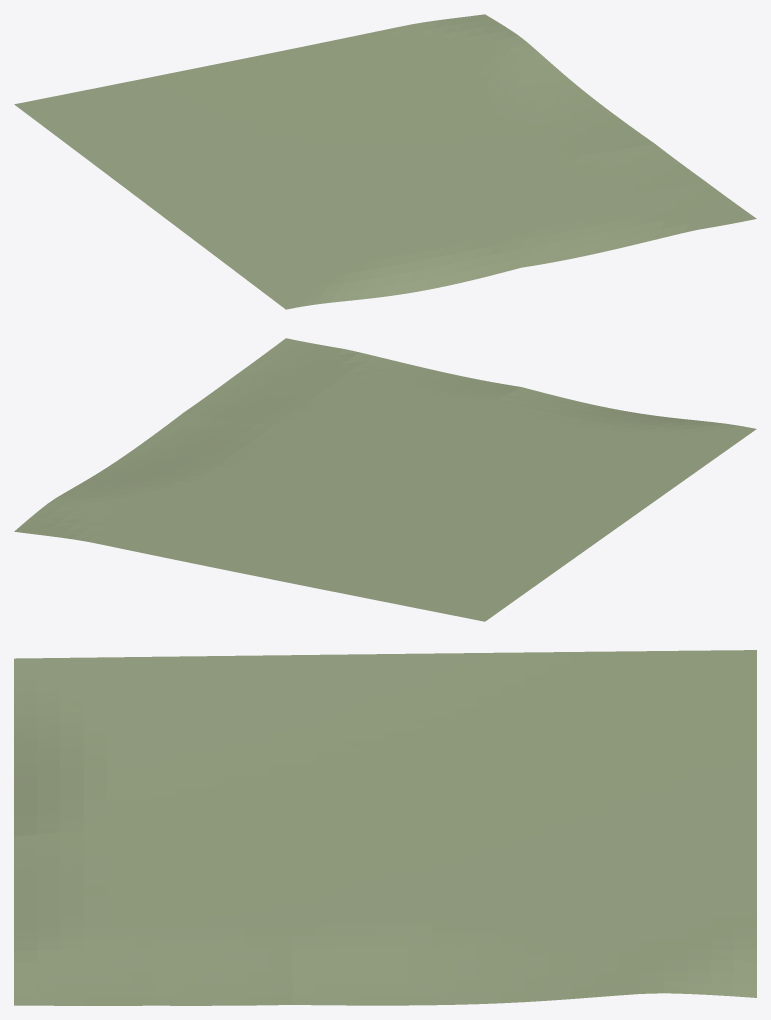
The model's file is gardens-0-5.glb.
3 views of the same model, one above another, from view 1: azimuth 30°, elevation 25°; view 2: azimuth 150°, elevation 25°; view 3: azimuth 270°, elevation 25° (orthographic). The views are drawn at different scales.
Parts seen in each view (by area): view 1: gardens-0-5; view 2: gardens-0-5; view 3: gardens-0-5.
Part boxes in pixels (left/top/right/bottom): gardens-0-5: left=14, top=14, right=756, bottom=309; gardens-0-5: left=14, top=338, right=756, bottom=621; gardens-0-5: left=14, top=650, right=756, bottom=1005.
Bounding box in the file's own units: 256 × 15.94 × 256.
